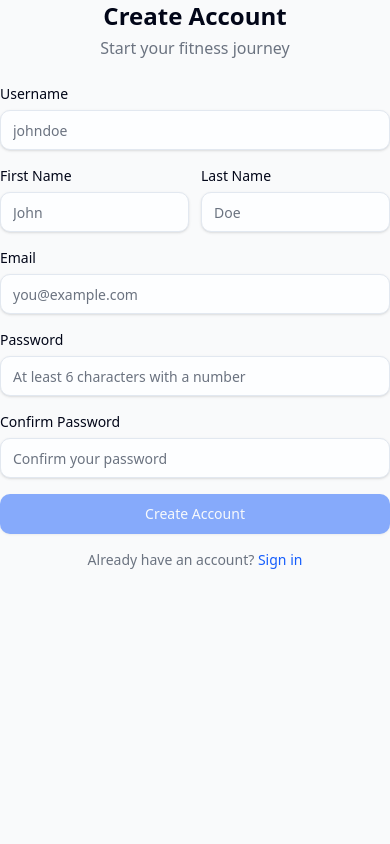
SignUpForm › should close the disclaimer without resubmitting when declined
In the field labelled "Username": [195, 130] box [0,110,389,150], type "johnd"
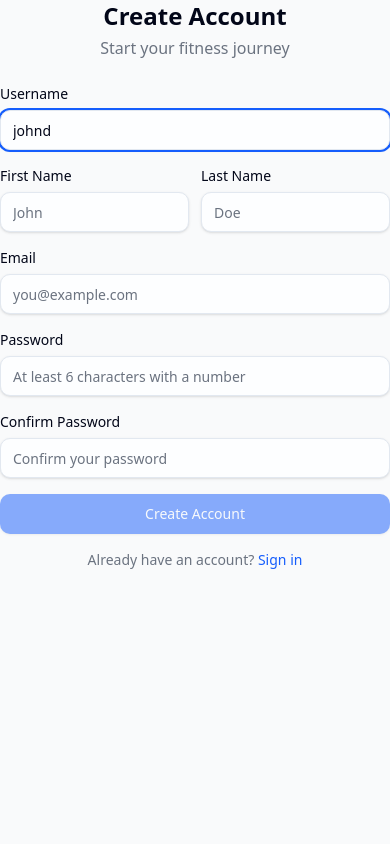
In the field labelled "Email": [195, 294] box [0,274,389,314], type "john@example.com"
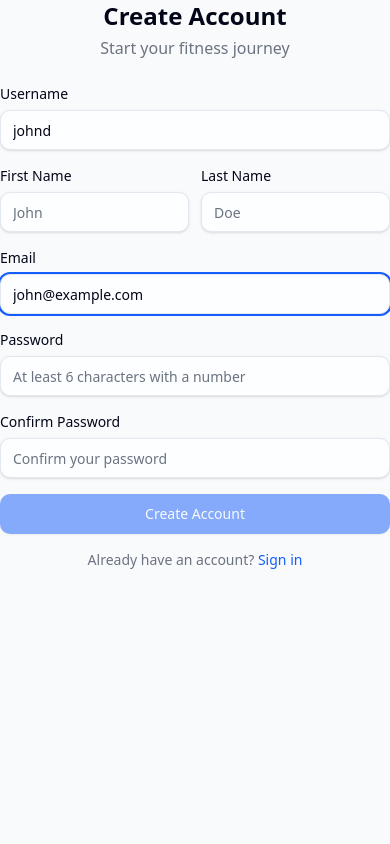
In the password field labelled "Password": [195, 376] box [0,356,389,396], type "password123"
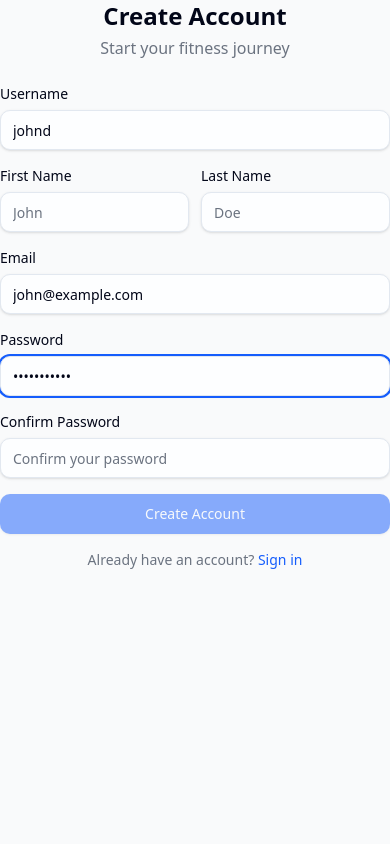
In the password field labelled "Confirm Password": [195, 458] box [0,438,389,478], type "password123"
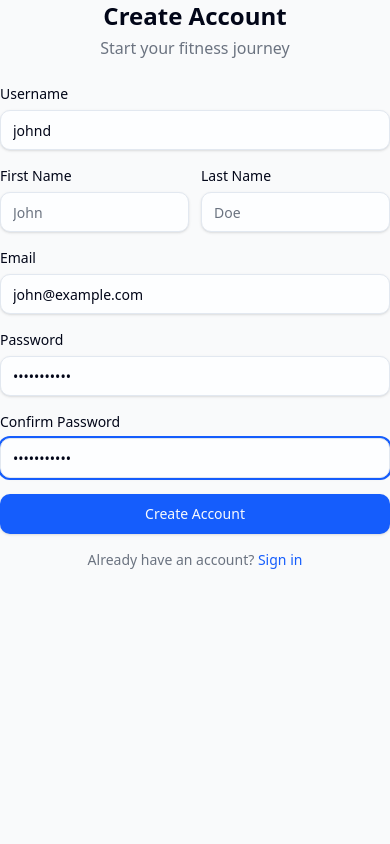
Click the button "Create Account": [195, 514] box [0,494,389,534]
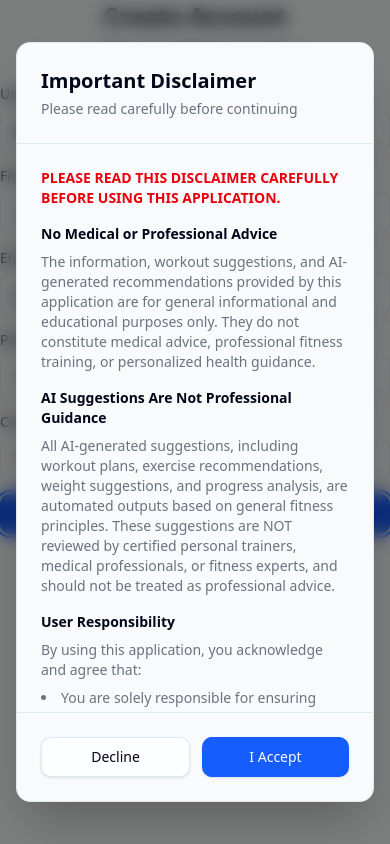
Click the button "Decline": [116, 757] box [41,737,190,777]
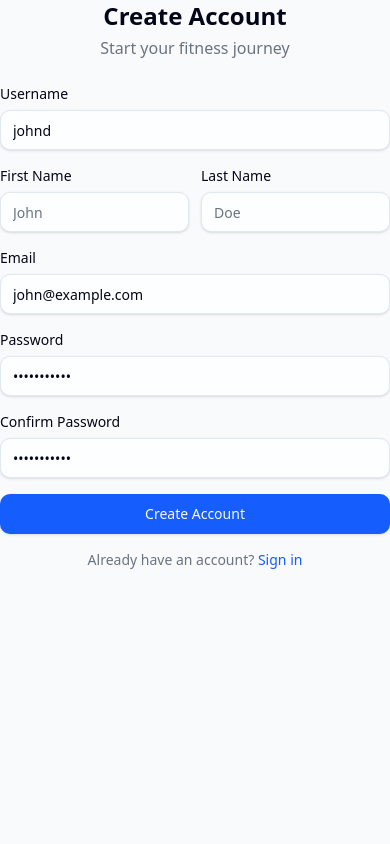
expect the button "Decline" is gone: met
